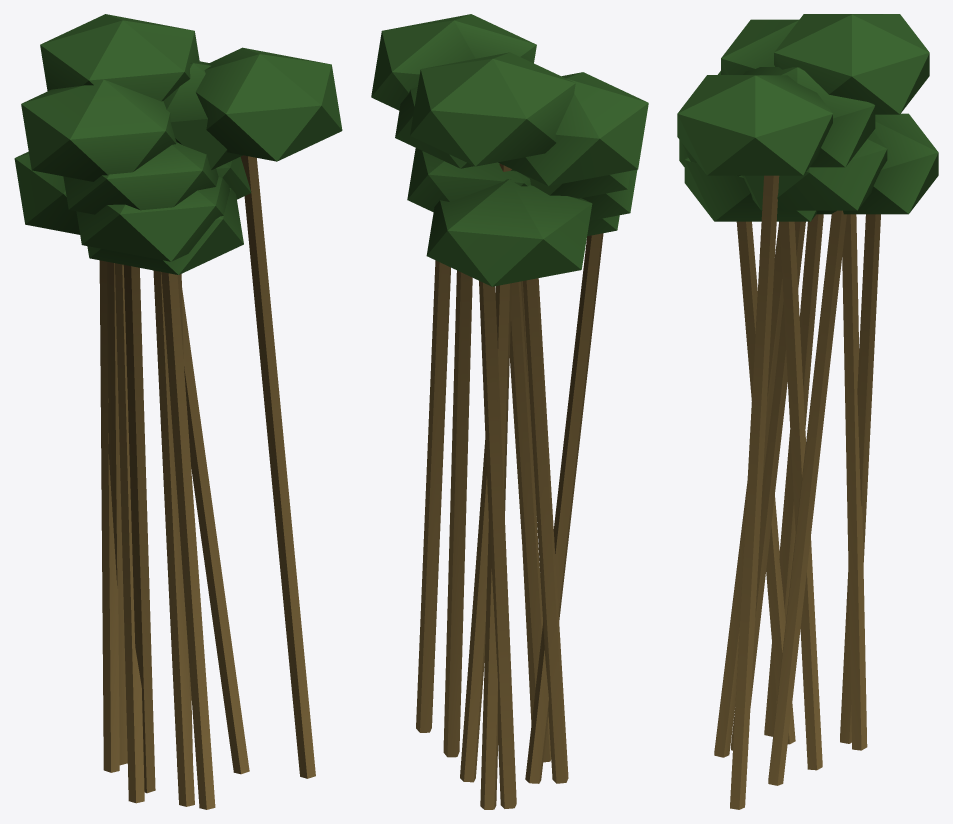
File: bui-tre.glb
3 renders of one model, left to right at view 1: azimuth 30°, elevation 25°; view 2: azimuth 150°, elevation 25°; view 3: azimuth 270°, elevation 25°, orthographic.
Parts seen in each view (by area): view 1: bui-tre; view 2: bui-tre; view 3: bui-tre.
Part boxes in pixels (x1,y1,x2,y2): bui-tre: (14,14,342,809); bui-tre: (371,14,648,809); bui-tre: (677,14,938,809).
Bounding box in the file's own units: 1.9 × 4.86 × 1.57.
